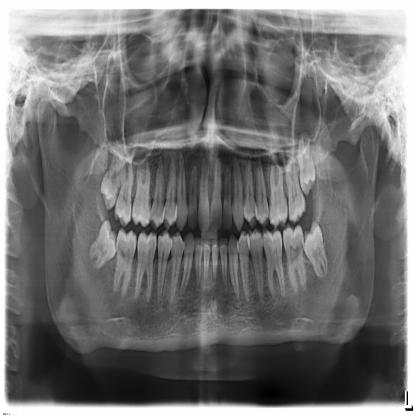canine: (232, 151, 245, 234), (178, 234, 194, 296), (176, 148, 188, 229), (228, 234, 241, 304)
central incisor: (197, 152, 211, 233), (211, 154, 222, 232), (203, 243, 211, 285), (211, 242, 218, 287)
lateral incisor: (188, 162, 198, 231), (224, 160, 233, 229), (194, 240, 203, 290), (218, 240, 227, 288)
mandible: (38, 101, 381, 356)
maxilla: (95, 126, 322, 239)
molar: (283, 225, 307, 298), (262, 228, 285, 301), (112, 230, 137, 297), (135, 233, 157, 303), (303, 222, 328, 281), (285, 157, 306, 225), (89, 219, 118, 267), (270, 157, 289, 228), (132, 160, 152, 227), (115, 158, 133, 230), (101, 147, 120, 210), (299, 134, 317, 196)
premolar: (248, 228, 264, 309), (157, 231, 172, 311), (244, 151, 259, 230), (236, 231, 250, 308), (170, 232, 184, 306), (164, 157, 178, 230), (255, 158, 270, 226), (151, 160, 165, 229)
